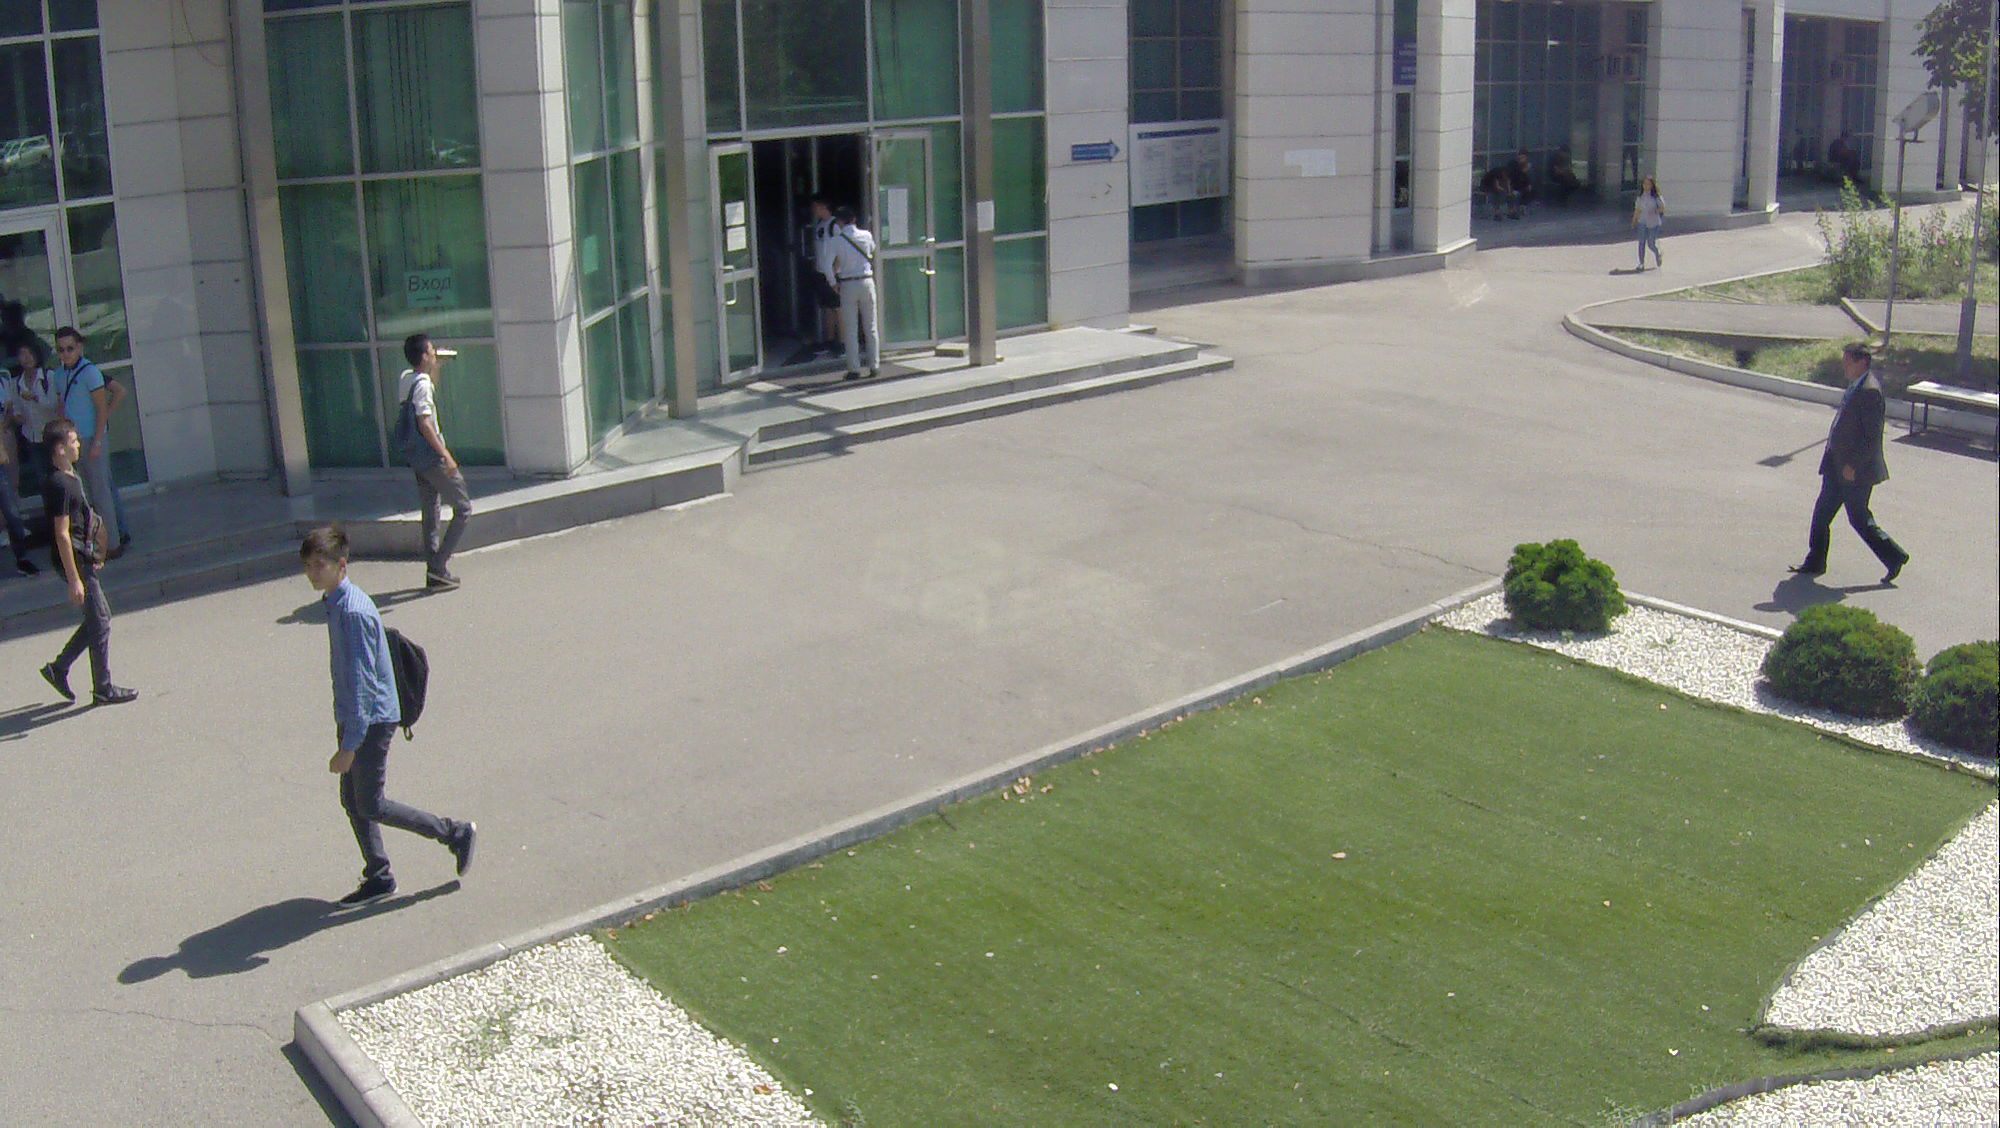person: (278, 533, 487, 912), (16, 422, 141, 718), (1803, 335, 1918, 601), (387, 330, 487, 612), (47, 320, 128, 562), (826, 208, 885, 393), (1628, 176, 1664, 278)
